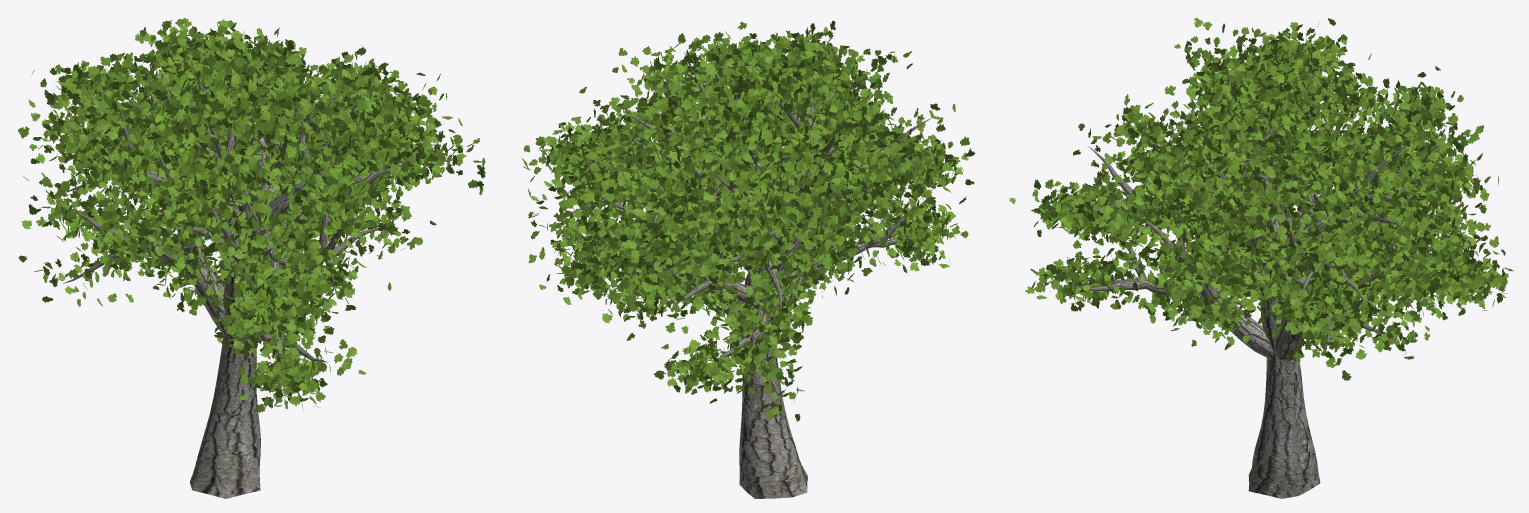
Rendered from linden_easytree_v019.glb.
3 views of the same model, side by side, from view 1: azimuth 30°, elevation 25°; view 2: azimuth 150°, elevation 25°; view 3: azimuth 270°, elevation 25° (orthographic). The views are drawn at different scales.
Visible parts, largest first — view 1: Tilo foliage cards, Tilo_EasyTree_V019_Proof; view 2: Tilo foliage cards, Tilo_EasyTree_V019_Proof; view 3: Tilo foliage cards, Tilo_EasyTree_V019_Proof.
Boxes of the visible parts, x1,y1,x2,y2 form: Tilo foliage cards: (18,18,485,412); Tilo_EasyTree_V019_Proof: (62,60,452,498); Tilo foliage cards: (522,20,975,421); Tilo_EasyTree_V019_Proof: (563,40,931,498); Tilo foliage cards: (1009,17,1513,380); Tilo_EasyTree_V019_Proof: (1068,55,1458,498).
Size of the model in its own units: 6.76 by 7.23 by 7.47.
2 materials, 2 textured.
